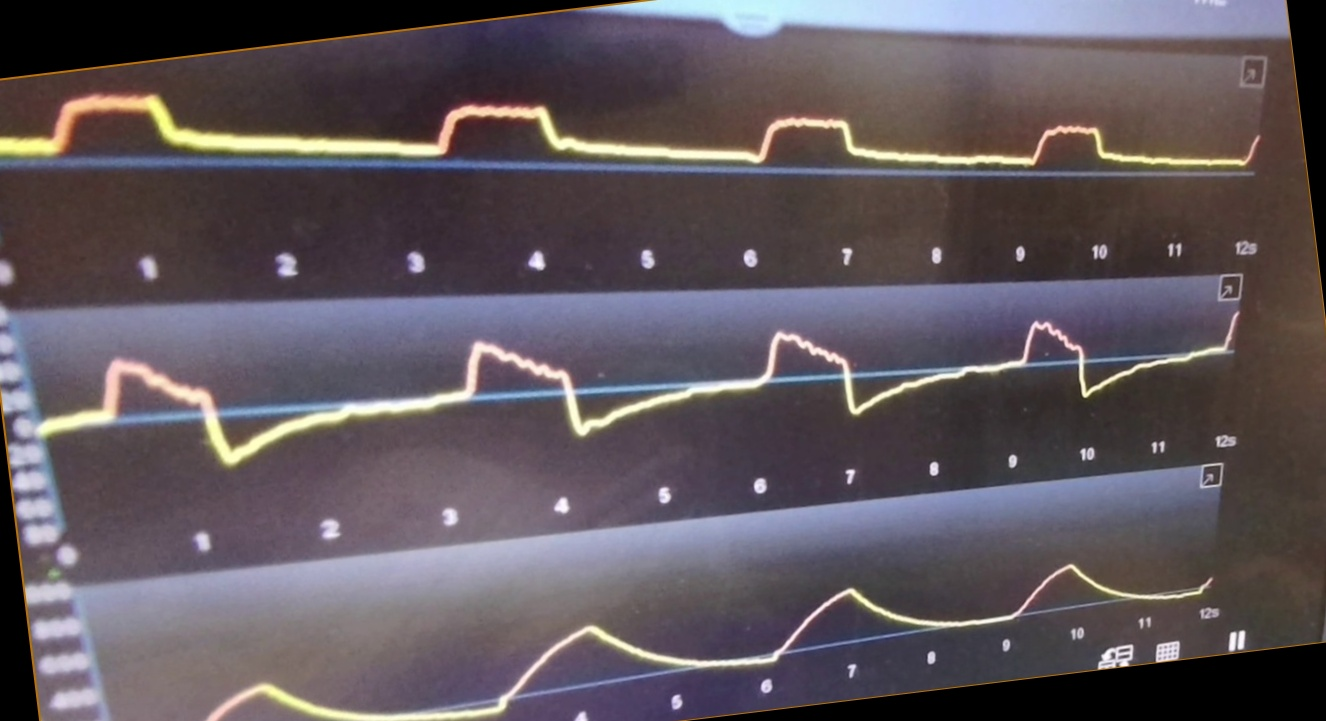Accumulation Flow: (45, 299, 1248, 471)
Volume: (167, 552, 1219, 721)
